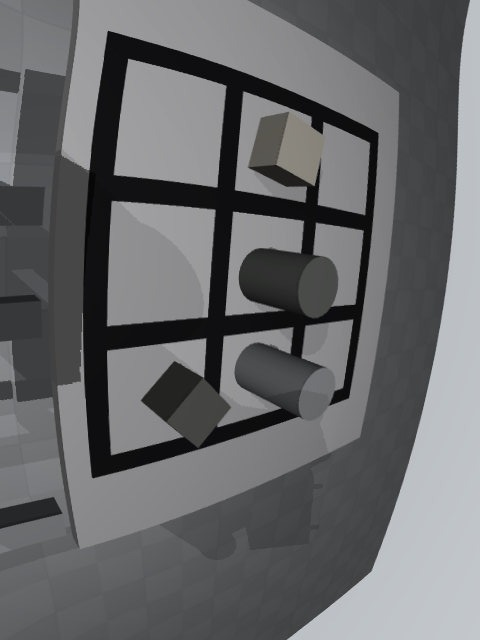can: (235, 342, 336, 421)
cube: (140, 361, 231, 447)
cylinder: (239, 248, 338, 319)
foam: (248, 112, 325, 187)
